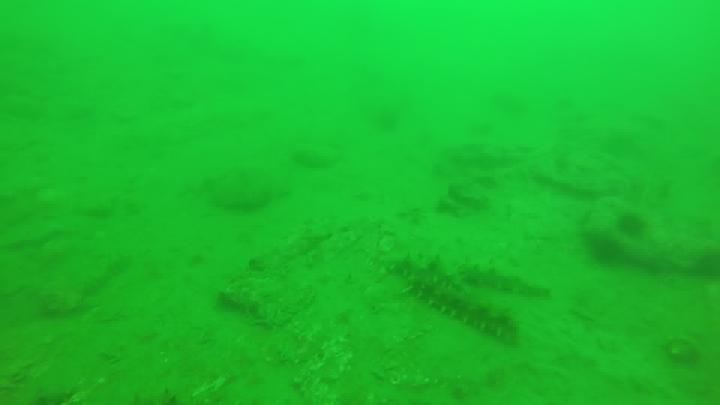echinus: (619, 212, 650, 238)
holothurian: (409, 274, 513, 346), (458, 259, 555, 296), (385, 254, 463, 297)
